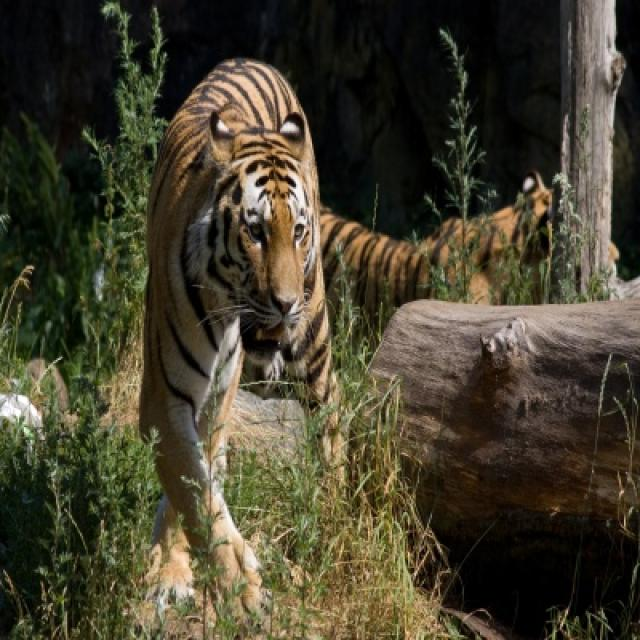Tiger: (141, 57, 337, 556)
